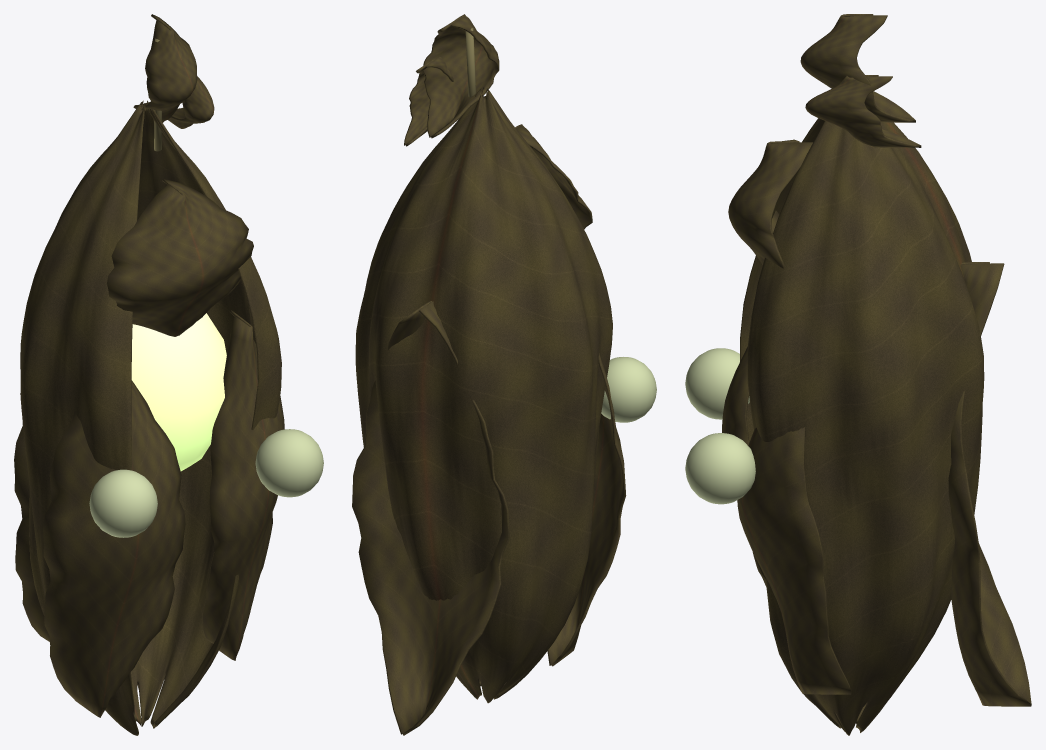
Rendered from sprite_guardian_refined.glb.
The picture shows the model from 3 angles, left to right: view 1: azimuth 30°, elevation 25°; view 2: azimuth 150°, elevation 25°; view 3: azimuth 270°, elevation 25°; orthographic projection. The views are drawn at different scales.
Parts seen in each view (by area): view 1: Leaf_Envelope, Leaf_Cape_Left, Leaf_Cape_Right, Leaf_Hood_Brim, Sprite_Core, Sprout_Tip, Orb_Hand_L, Orb_Hand_R, Leaf_Cape_Back, Sprout_Side; view 2: Leaf_Envelope, Leaf_Cape_Back, Leaf_Cape_Left, Sprout_Tip, Orb_Hand_L, Sprout_Side, Leaf_Hood_Brim, Sprout_Stem; view 3: Leaf_Envelope, Leaf_Cape_Right, Leaf_Cape_Back, Leaf_Hood_Brim, Sprout_Tip, Orb_Hand_R, Sprout_Side, Orb_Hand_L, Leaf_Cape_Left.
Part boxes in pixels (<box>): Leaf_Envelope: <box>20,100,281,735</box>; Leaf_Cape_Left: <box>43,380,185,717</box>; Leaf_Cape_Right: <box>203,310,284,660</box>; Leaf_Hood_Brim: <box>107,179,253,336</box>; Sprite_Core: <box>131,313,226,471</box>; Sprout_Tip: <box>133,14,197,122</box>; Orb_Hand_L: <box>89,469,157,537</box>; Orb_Hand_R: <box>255,429,323,497</box>; Leaf_Cape_Back: <box>14,393,49,641</box>; Sprout_Side: <box>168,76,214,128</box>; Leaf_Envelope: <box>355,87,612,703</box>; Leaf_Cape_Back: <box>352,300,509,735</box>; Leaf_Cape_Left: <box>547,353,626,666</box>; Sprout_Tip: <box>422,14,499,138</box>; Orb_Hand_L: <box>601,357,656,422</box>; Sprout_Side: <box>404,57,453,146</box>; Leaf_Hood_Brim: <box>515,124,592,229</box>; Sprout_Stem: <box>465,27,475,96</box>; Leaf_Envelope: <box>740,118,984,735</box>; Leaf_Cape_Right: <box>737,427,851,694</box>; Leaf_Cape_Back: <box>948,262,1031,706</box>; Leaf_Hood_Brim: <box>728,139,812,268</box>; Sprout_Tip: <box>800,14,915,122</box>; Orb_Hand_R: <box>685,433,755,504</box>; Sprout_Side: <box>805,75,921,147</box>; Orb_Hand_L: <box>685,348,749,419</box>; Leaf_Cape_Left: <box>722,347,766,587</box>.
Size of the model in its own units: 0.832 by 2.26 by 0.9677.
Materials: 4 (1 with a texture image).
